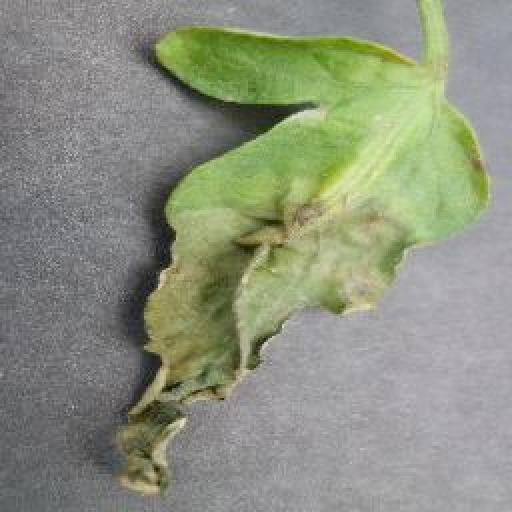disease_tomato: (112, 24, 494, 494)
